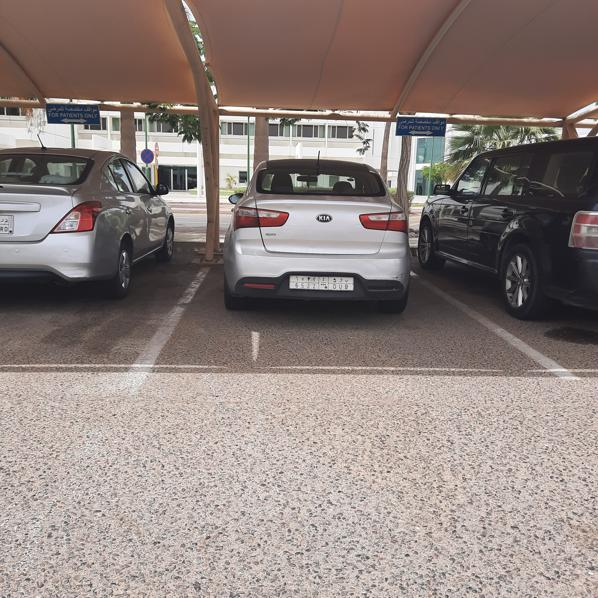numberplate: (289, 274, 355, 292)
